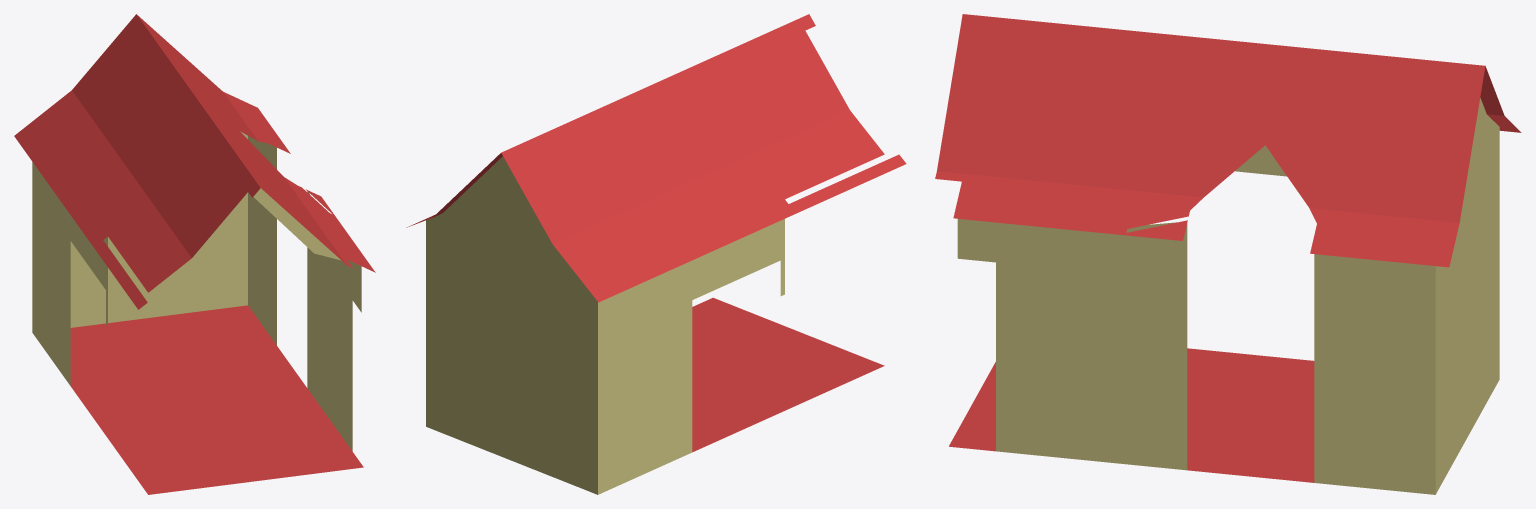
3 renders of one model, left to right at view 1: azimuth 30°, elevation 25°; view 2: azimuth 150°, elevation 25°; view 3: azimuth 270°, elevation 25°, orthographic. The views are drawn at different scales.
Bounding box in the file's own units: 17.63 × 23.93 × 16.8.
